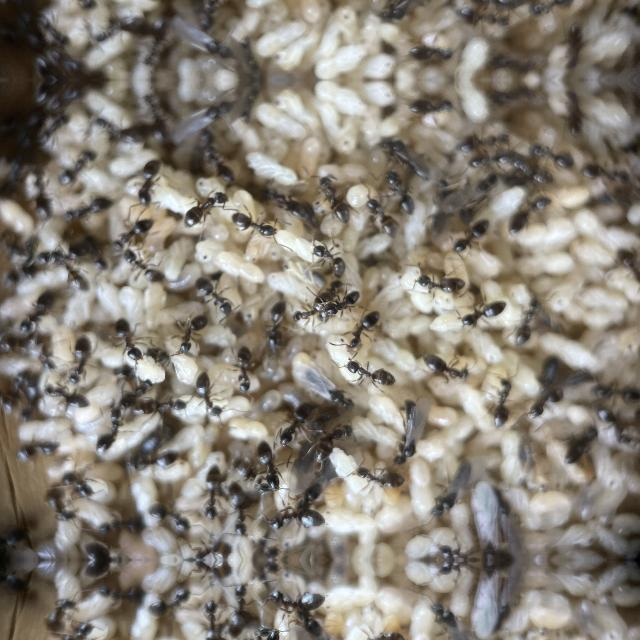Tapinoma: (424, 460, 478, 520), (390, 394, 430, 464), (299, 365, 359, 411), (382, 134, 436, 180), (260, 182, 316, 222), (558, 422, 606, 468), (10, 292, 58, 338), (506, 195, 556, 239), (180, 187, 232, 229), (424, 600, 478, 640), (307, 422, 358, 463), (315, 171, 355, 223), (484, 374, 520, 430), (108, 316, 150, 364), (92, 406, 132, 456), (61, 332, 98, 386), (338, 356, 398, 389), (54, 148, 100, 190), (593, 406, 639, 448), (189, 372, 227, 422), (197, 141, 240, 185), (253, 441, 289, 493), (146, 498, 198, 534), (146, 586, 198, 622), (341, 311, 384, 354), (380, 169, 420, 215), (456, 298, 510, 332), (128, 159, 166, 207), (119, 247, 167, 285), (190, 278, 238, 316), (120, 432, 163, 474), (454, 126, 516, 154), (454, 6, 516, 34), (224, 342, 258, 393), (418, 351, 472, 383), (108, 216, 156, 252), (58, 192, 112, 224), (508, 299, 542, 349), (258, 302, 292, 352), (447, 219, 491, 257), (227, 210, 279, 242), (503, 154, 555, 186), (221, 485, 253, 537), (221, 583, 253, 635), (57, 468, 103, 504), (576, 158, 634, 186), (264, 506, 326, 532), (264, 588, 326, 614), (409, 271, 466, 299), (174, 314, 212, 356), (41, 382, 94, 412), (306, 242, 350, 278), (348, 466, 404, 494), (359, 197, 398, 237), (126, 394, 188, 418), (179, 534, 235, 560), (179, 560, 235, 586), (527, 142, 575, 172), (274, 406, 310, 446), (195, 474, 225, 522), (22, 332, 58, 372), (190, 95, 236, 126), (88, 113, 132, 145), (88, 15, 132, 47), (36, 242, 90, 268), (94, 512, 144, 540), (94, 580, 144, 608), (610, 244, 640, 290), (190, 34, 236, 64), (404, 94, 456, 120), (404, 40, 456, 66), (115, 377, 158, 408), (524, 388, 566, 419), (590, 380, 640, 406), (464, 148, 518, 172), (382, 0, 436, 24), (324, 288, 364, 320), (195, 598, 225, 640), (290, 302, 340, 326), (560, 91, 586, 137), (560, 23, 586, 69), (39, 111, 70, 149), (39, 11, 70, 49), (0, 524, 32, 560), (490, 84, 538, 108), (0, 560, 32, 596), (490, 52, 538, 76), (57, 616, 103, 640), (18, 438, 60, 464), (435, 542, 487, 560), (435, 560, 487, 578), (312, 278, 343, 306), (195, 0, 238, 18), (527, 0, 575, 16), (348, 626, 402, 640), (463, 0, 516, 10), (253, 626, 289, 640), (52, 0, 99, 10)
